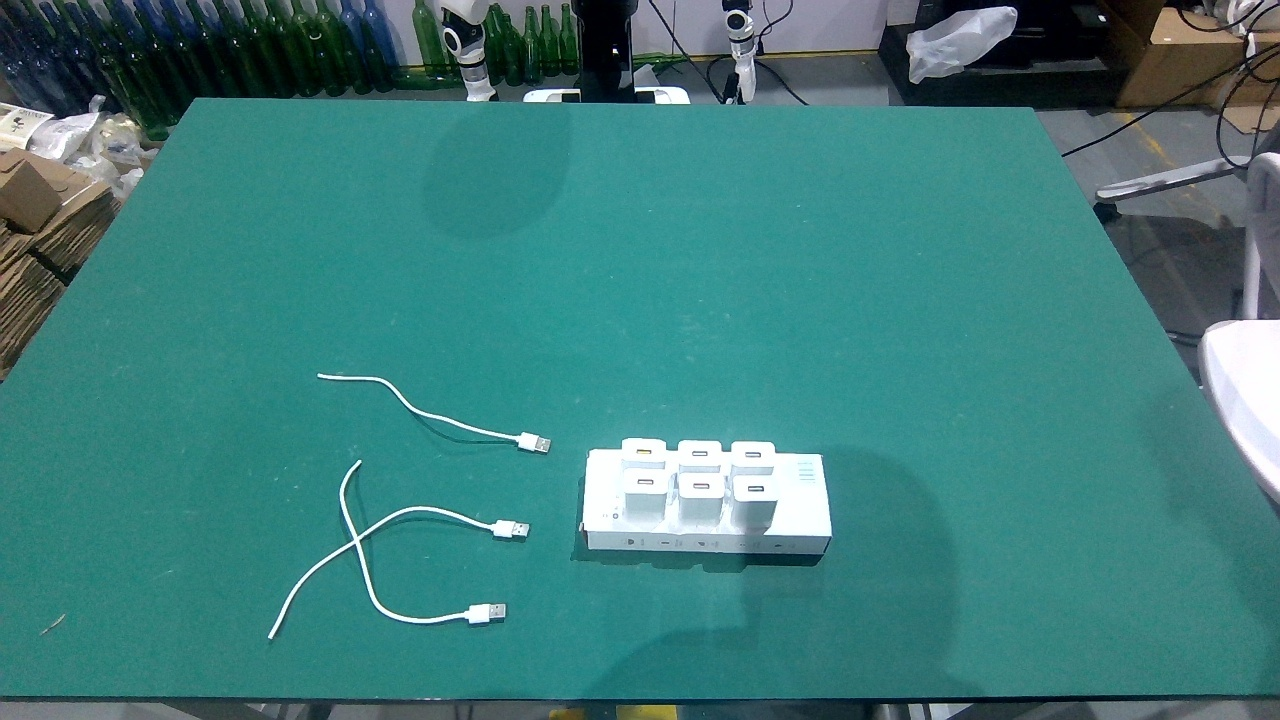usb_a_port: (744, 483, 768, 494), (635, 477, 657, 488), (743, 449, 763, 461), (633, 446, 654, 457), (691, 481, 712, 491), (690, 450, 709, 459)
